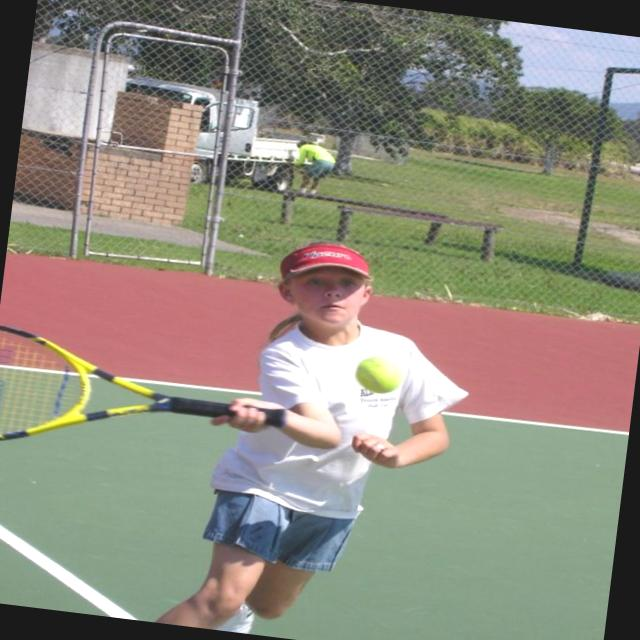Tennis Ball: (351, 352, 404, 395)
